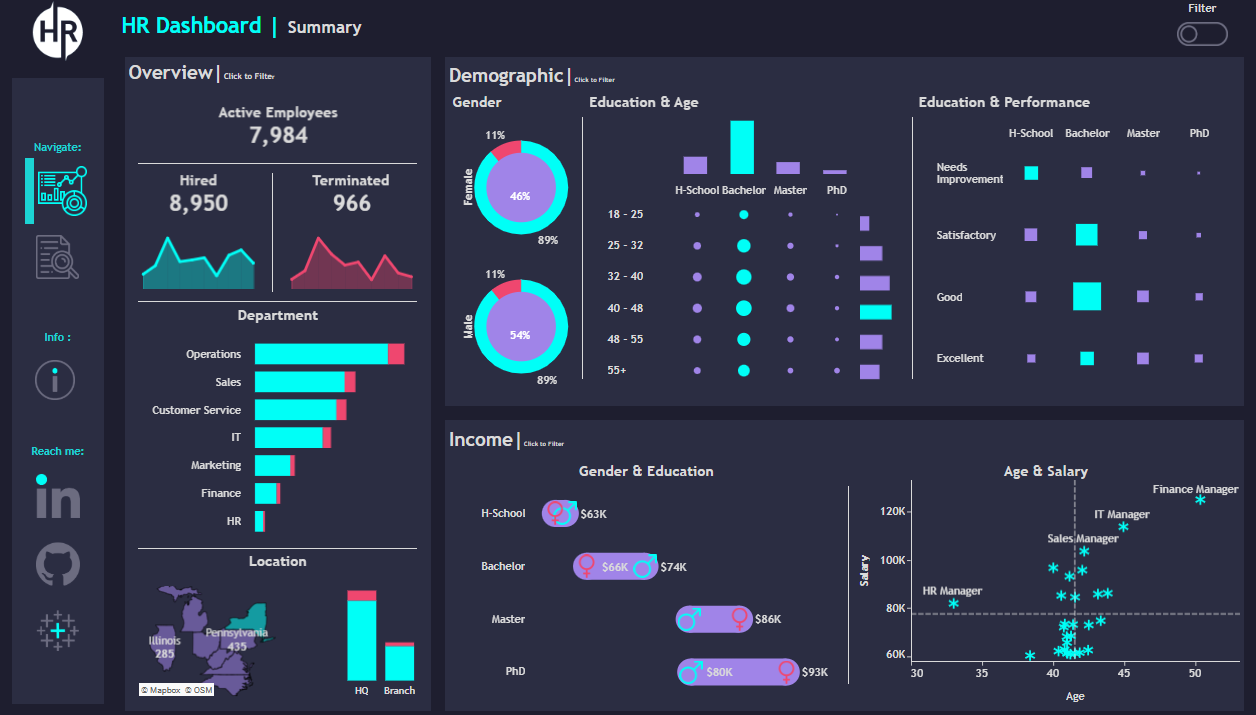

This screenshot's page, from the dashboard's own definition file:
{"tool":"tableau","page":{"name":"Summary Dashboard","canvas":[1400,800],"ordinal":1},"visuals":[{"type":"image","param":"Image/Company logo.png","box":[0,0,133,74]},{"type":"text","box":[133,0,619.5,58]},{"type":"blank","box":[752.5,0,523.5,58]},{"type":"text","box":[1276,0,124,22]},{"type":"filter","title":"BAN Active Empoyee","param":"[federated.03i0tw21e9eurm1giw4c20idup9t].[none:Department:nk]","box":[530,9,188,46]},{"type":"filter","title":"BAN Active Empoyee","param":"[federated.03i0tw21e9eurm1giw4c20idup9t].[none:Calculation_41658332846456832:nk]","box":[718,9,188,46]},{"type":"filter","title":"BAN Active Empoyee","param":"[federated.03i0tw21e9eurm1giw4c20idup9t].[none:Calculation_726486951055654915:nk","box":[906,9,188,46]},{"type":"filter","title":"BAN Active Empoyee","param":"[federated.03i0tw21e9eurm1giw4c20idup9t].[none:Calculation_309903986251272196:ok","box":[1094,9,188,46]},{"type":"dashboard-object","box":[1276,22,124,36]},{"type":"text","box":[141,66,340,33]},{"type":"text","box":[497,66,887,36]},{"type":"worksheet","title":"BAN Active Empoyee","mark":"Automatic","box":[141,99,340,85]},{"type":"blank","box":[649,102,1,351]},{"type":"blank","box":[1015,102,1,351]},{"type":"blank","box":[30,104,73,52.2]},{"type":"text","box":[501,106,141,19]},{"type":"text","box":[657,106,351,19]},{"type":"text","box":[1023,106,357,19]},{"type":"worksheet","title":"Gender","mark":"Pie","rows":["Gender"],"cols":["Calculation_426434626083966980","Calculation_426434626083966980"],"box":[501,125,141,324]},{"type":"worksheet","title":"Age Group VS Performance","mark":"Automatic","rows":["Performance Rating"],"cols":["Education Level"],"box":[1023,125,357,324]},{"type":"blank","box":[664,132,85,63]},{"type":"worksheet","title":"Breakdown By Education","mark":"Automatic","rows":["Calculation_726486951049601024"],"cols":["Education Level"],"box":[749,132,207,63]},{"type":"blank","box":[956,132,45,63]},{"type":"text","box":[30,156.2,73,22]},{"type":"blank","box":[30,178.2,10,73]},{"type":"dashboard-object","box":[40,178.2,63,73]},{"type":"blank","box":[141,184,340,1]},{"type":"worksheet","title":"BAN Hired Employee","mark":"Automatic","box":[141,185,163,63]},{"type":"blank","box":[304,185,1,153]},{"type":"worksheet","title":"BAN Terminated Employee","mark":"Automatic","box":[305,185,176,63]},{"type":"worksheet","title":"Age Group VS Educational Level","mark":"Circle","rows":["Calculation_457115398679547906"],"cols":["Education Level"],"box":[671,202,287,233]},{"type":"blank","box":[958,202,36,32]},{"type":"worksheet","title":"Breakdown By Aggroup","mark":"Automatic","rows":["Calculation_457115398679547906"],"cols":["Calculation_726486951049601024"],"box":[958,234,36,201]},{"type":"worksheet","title":"Hired Employee Overtime","mark":"Automatic","rows":["Calculation_726486951049601024","Calculation_726486951049601024"],"cols":["Hiredate"],"box":[141,248,163,90]},{"type":"worksheet","title":"Terminated Employee Overtime","mark":"Automatic","rows":["Calculation_726486951049703425","Calculation_726486951049703425"],"cols":["Hiredate"],"box":[305,248,176,90]},{"type":"dashboard-object","box":[30,251.2,73,73]},{"type":"blank","box":[30,324.2,73,42]},{"type":"blank","box":[141,338,340,1]},{"type":"text","box":[141,339,340,27]},{"type":"worksheet","title":"Breakdown By Department","mark":"Automatic","rows":["Department"],"cols":["Calculation_726486951049601024"],"box":[141,366,340,245]},{"type":"text","box":[30,366.2,73,22]},{"type":"blank","box":[30,388.2,73,52.2]},{"type":"dashboard-object","box":[34,397,59,55]},{"type":"blank","box":[30,440.5,73,52.2]},{"type":"text","box":[497,469,887,43]},{"type":"text","box":[30,492.7,73,22]},{"type":"text","box":[497,512,447,23]},{"type":"blank","box":[944,512,1,280]},{"type":"text","box":[945,512,439,23]},{"type":"image","param":"Image/LinkedIn.png","box":[30,514.7,73,76]},{"type":"worksheet","title":"Salaries by Gender and Education","mark":"Automatic","rows":["Education Level"],"cols":["Salary","Salary"],"box":[497,535,447,257]},{"type":"worksheet","title":"Salary by Age","mark":"Automatic","rows":["Salary"],"cols":["Calculation_457115398678937600"],"box":[945,535,439,257]},{"type":"image","param":"Image/GitHub.png","box":[30,590.7,73,77]},{"type":"blank","box":[141,611,340,1]},{"type":"text","box":[141,612,340,27]},{"type":"worksheet","title":"Map","mark":"Multipolygon","box":[141,639,228,153]},{"type":"worksheet","title":"HQ Branch Comparison","mark":"Bar","rows":["Calculation_726486951049601024"],"cols":["Calculation_41658332846456832"],"box":[369,639,112,153]},{"type":"image","param":"Image/Tableau Public.png","box":[30,667.7,73,70.2]},{"type":"blank","box":[30,738,73,32]}]}

Visuals, with their boxes in screenshot pixels (x1, y1, x2, y2), scaled from the page's 1400x800 canvas onto the 1256x715 screenshot:
image: x1=0 y1=0 x2=119 y2=66
text: x1=119 y1=0 x2=675 y2=52
blank: x1=675 y1=0 x2=1145 y2=52
text: x1=1145 y1=0 x2=1255 y2=20
"BAN Active Empoyee" filter: x1=475 y1=8 x2=644 y2=49
"BAN Active Empoyee" filter: x1=644 y1=8 x2=813 y2=49
"BAN Active Empoyee" filter: x1=813 y1=8 x2=981 y2=49
"BAN Active Empoyee" filter: x1=981 y1=8 x2=1150 y2=49
dashboard-object: x1=1145 y1=20 x2=1255 y2=52
text: x1=126 y1=59 x2=432 y2=88
text: x1=446 y1=59 x2=1242 y2=91
"BAN Active Empoyee" worksheet: x1=126 y1=88 x2=432 y2=164
blank: x1=582 y1=91 x2=583 y2=405
blank: x1=27 y1=93 x2=92 y2=140
text: x1=449 y1=95 x2=576 y2=112
text: x1=589 y1=95 x2=904 y2=112
text: x1=918 y1=95 x2=1238 y2=112
"Gender" worksheet (Pie marks): x1=449 y1=112 x2=576 y2=401
"Age Group VS Performance" worksheet: x1=918 y1=112 x2=1238 y2=401
blank: x1=596 y1=118 x2=672 y2=174
"Breakdown By Education" worksheet: x1=672 y1=118 x2=858 y2=174
blank: x1=858 y1=118 x2=898 y2=174
text: x1=27 y1=140 x2=92 y2=159
blank: x1=27 y1=159 x2=36 y2=225
dashboard-object: x1=36 y1=159 x2=92 y2=225
blank: x1=126 y1=164 x2=432 y2=165
"BAN Hired Employee" worksheet: x1=126 y1=165 x2=273 y2=222
blank: x1=273 y1=165 x2=274 y2=302
"BAN Terminated Employee" worksheet: x1=274 y1=165 x2=432 y2=222
"Age Group VS Educational Level" worksheet (Circle marks): x1=602 y1=181 x2=859 y2=389
blank: x1=859 y1=181 x2=892 y2=209
"Breakdown By Aggroup" worksheet: x1=859 y1=209 x2=892 y2=389
"Hired Employee Overtime" worksheet: x1=126 y1=222 x2=273 y2=302
"Terminated Employee Overtime" worksheet: x1=274 y1=222 x2=432 y2=302
dashboard-object: x1=27 y1=225 x2=92 y2=290
blank: x1=27 y1=290 x2=92 y2=327
blank: x1=126 y1=302 x2=432 y2=303
text: x1=126 y1=303 x2=432 y2=327
"Breakdown By Department" worksheet: x1=126 y1=327 x2=432 y2=546
text: x1=27 y1=327 x2=92 y2=347
blank: x1=27 y1=347 x2=92 y2=394
dashboard-object: x1=31 y1=355 x2=83 y2=404
blank: x1=27 y1=394 x2=92 y2=440
text: x1=446 y1=419 x2=1242 y2=458
text: x1=27 y1=440 x2=92 y2=460
text: x1=446 y1=458 x2=847 y2=478
blank: x1=847 y1=458 x2=848 y2=708
text: x1=848 y1=458 x2=1242 y2=478
image: x1=27 y1=460 x2=92 y2=528
"Salaries by Gender and Education" worksheet: x1=446 y1=478 x2=847 y2=708
"Salary by Age" worksheet: x1=848 y1=478 x2=1242 y2=708
image: x1=27 y1=528 x2=92 y2=597
blank: x1=126 y1=546 x2=432 y2=547
text: x1=126 y1=547 x2=432 y2=571
"Map" worksheet (Multipolygon marks): x1=126 y1=571 x2=331 y2=708
"HQ Branch Comparison" worksheet (Bar marks): x1=331 y1=571 x2=432 y2=708
image: x1=27 y1=597 x2=92 y2=659
blank: x1=27 y1=660 x2=92 y2=688
